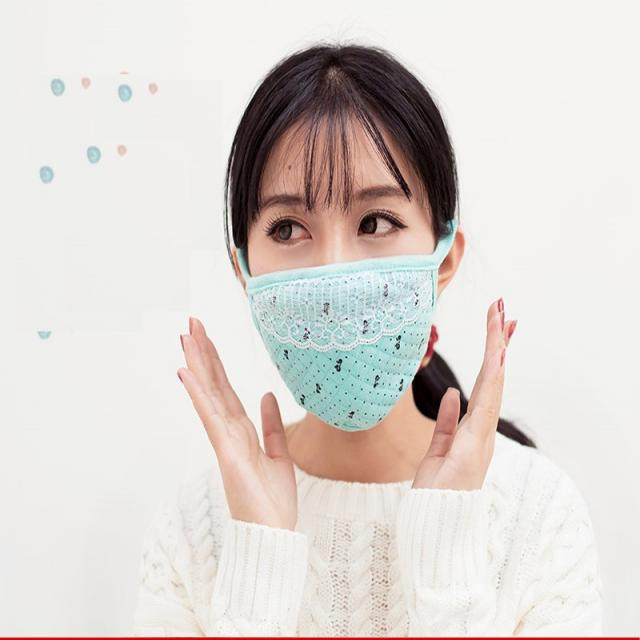mask: (244, 141, 438, 431)
